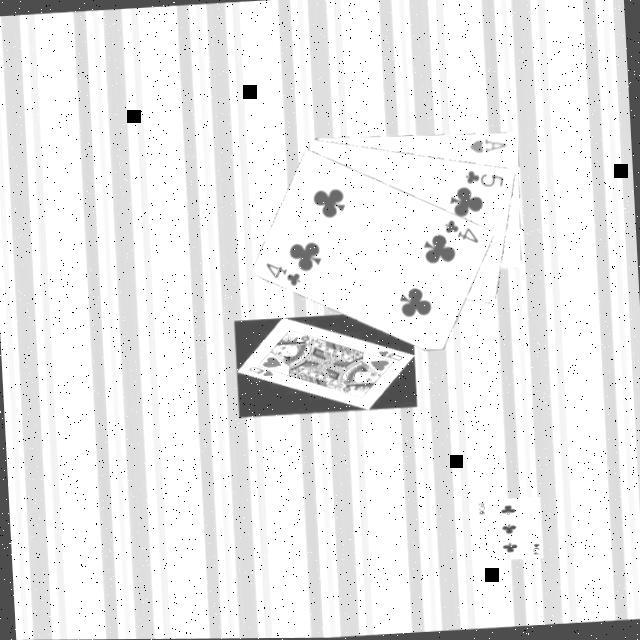4C: (443, 217, 485, 250), (265, 259, 307, 292)
5C: (464, 167, 510, 194)
AH: (468, 137, 512, 160)
